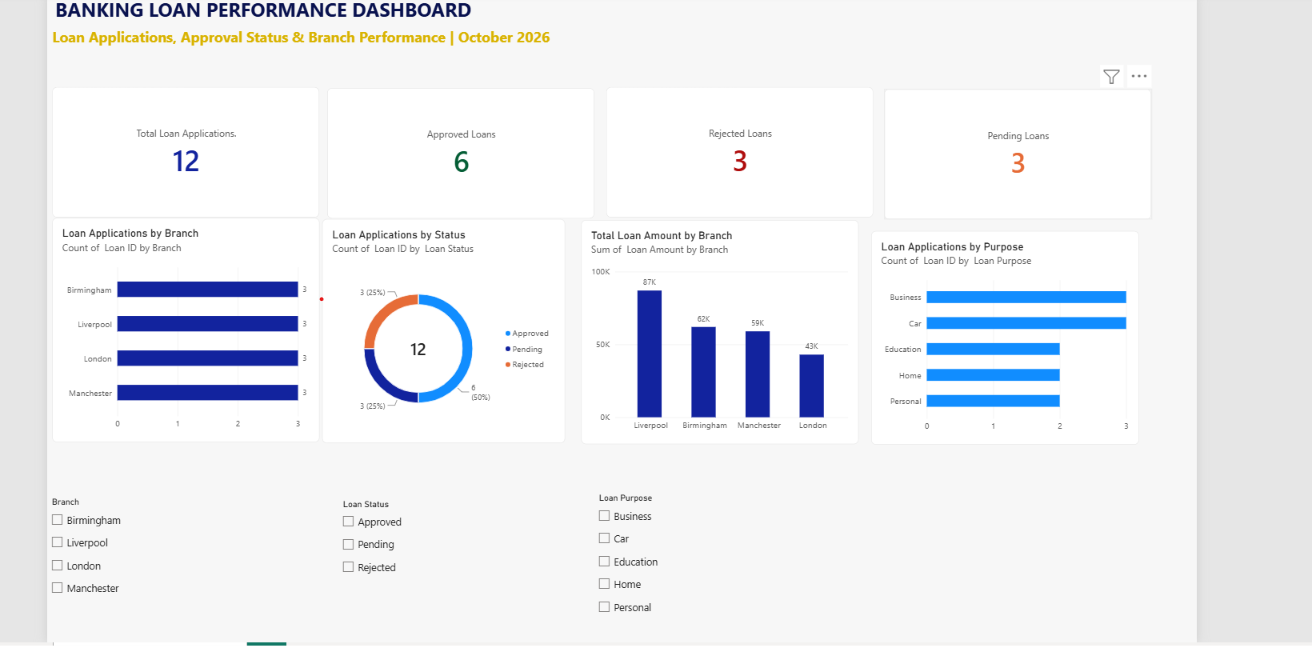

What the dashboard file says about the page in this screenshot:
{"tool":"powerbi","page":{"name":"Loan Performance Overview","canvas":[1920,1080],"ordinal":0},"visuals":[{"type":"cardVisual","fields":{"Data":["CountNonNull(BankingLoans. Loan ID)"]},"box":[8,152,446.7,218.2],"z":0},{"type":"cardVisual","fields":{"Data":["CountNonNull(BankingLoans. Loan ID)"]},"box":[468,154,446.7,218.2],"z":1000},{"type":"cardVisual","fields":{"Data":["CountNonNull(BankingLoans. Loan ID)"]},"box":[934,152,446.7,218.2],"z":2000},{"type":"cardVisual","fields":{"Data":["CountNonNull(BankingLoans. Loan ID)"]},"box":[1398,156,446.7,218.2],"z":3000},{"type":"clusteredBarChart","title":"Loan Applications by Branch","fields":{"Category":["BankingLoans.Branch"],"Y":["CountNonNull(BankingLoans. Loan ID)"]},"box":[8,370,446.7,374.6],"z":4000},{"type":"donutChart","title":"Loan Applications by Status","fields":{"Category":["BankingLoans. Loan Status"],"Y":["CountNonNull(BankingLoans. Loan ID)"]},"box":[460,372,405.5,374.6],"z":5000},{"type":"clusteredColumnChart","title":"Total Loan Amount by Branch","fields":{"Category":["BankingLoans.Branch"],"Y":["Sum(BankingLoans. Loan Amount)"]},"box":[892,374,463.1,374.6],"z":6000},{"type":"clusteredBarChart","title":"Loan Applications by Purpose","fields":{"Category":["BankingLoans. Loan Purpose"],"Y":["CountNonNull(BankingLoans. Loan ID)"]},"box":[1376,392,447,357],"z":7000},{"type":"slicer","fields":{"Values":["BankingLoans.Branch"]},"box":[0,836,448,244],"z":8000},{"type":"slicer","fields":{"Values":["BankingLoans. Loan Status"]},"box":[486,840,448,240],"z":8001},{"type":"slicer","fields":{"Values":["BankingLoans. Loan Purpose"]},"box":[914,830,448,250],"z":8002},{"type":"textbox","box":[14,0,878,52],"z":8003},{"type":"textbox","box":[8,52,1374,74],"z":8004}]}

Visuals, with their boxes on the page's 1920x1080 design canvas (x1, y1, x2, y2). These are canvas units, not pixel positions in the 1312x646 screenshot, which may show the page scaled, cropped or inside an application window:
cardVisual - CountNonNull(BankingLoans. Loan ID): left=8, top=152, right=455, bottom=370
cardVisual - CountNonNull(BankingLoans. Loan ID): left=468, top=154, right=915, bottom=372
cardVisual - CountNonNull(BankingLoans. Loan ID): left=934, top=152, right=1381, bottom=370
cardVisual - CountNonNull(BankingLoans. Loan ID): left=1398, top=156, right=1845, bottom=374
"Loan Applications by Branch" clusteredBarChart: left=8, top=370, right=455, bottom=745
"Loan Applications by Status" donutChart: left=460, top=372, right=866, bottom=747
"Total Loan Amount by Branch" clusteredColumnChart: left=892, top=374, right=1355, bottom=749
"Loan Applications by Purpose" clusteredBarChart: left=1376, top=392, right=1823, bottom=749
slicer - BankingLoans.Branch: left=0, top=836, right=448, bottom=1080
slicer - BankingLoans. Loan Status: left=486, top=840, right=934, bottom=1080
slicer - BankingLoans. Loan Purpose: left=914, top=830, right=1362, bottom=1080
textbox: left=14, top=0, right=892, bottom=52
textbox: left=8, top=52, right=1382, bottom=126
